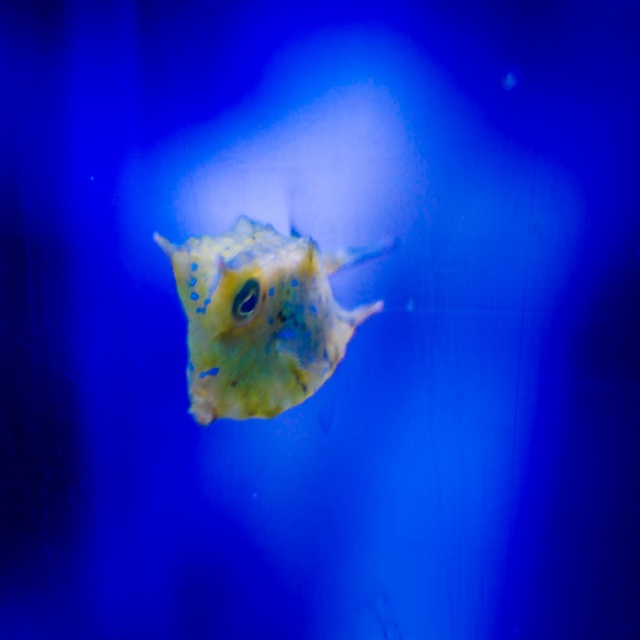Fish: (155, 188, 406, 440)
